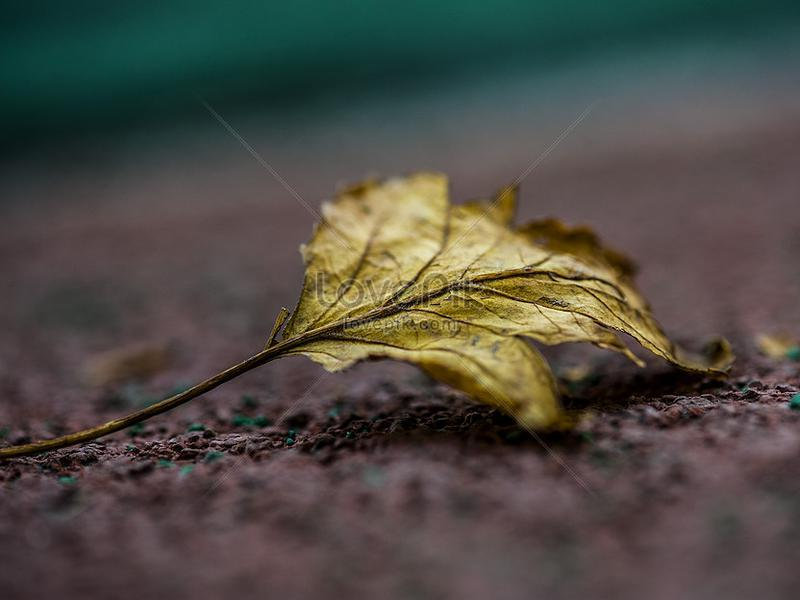leaf: (101, 164, 743, 444)
